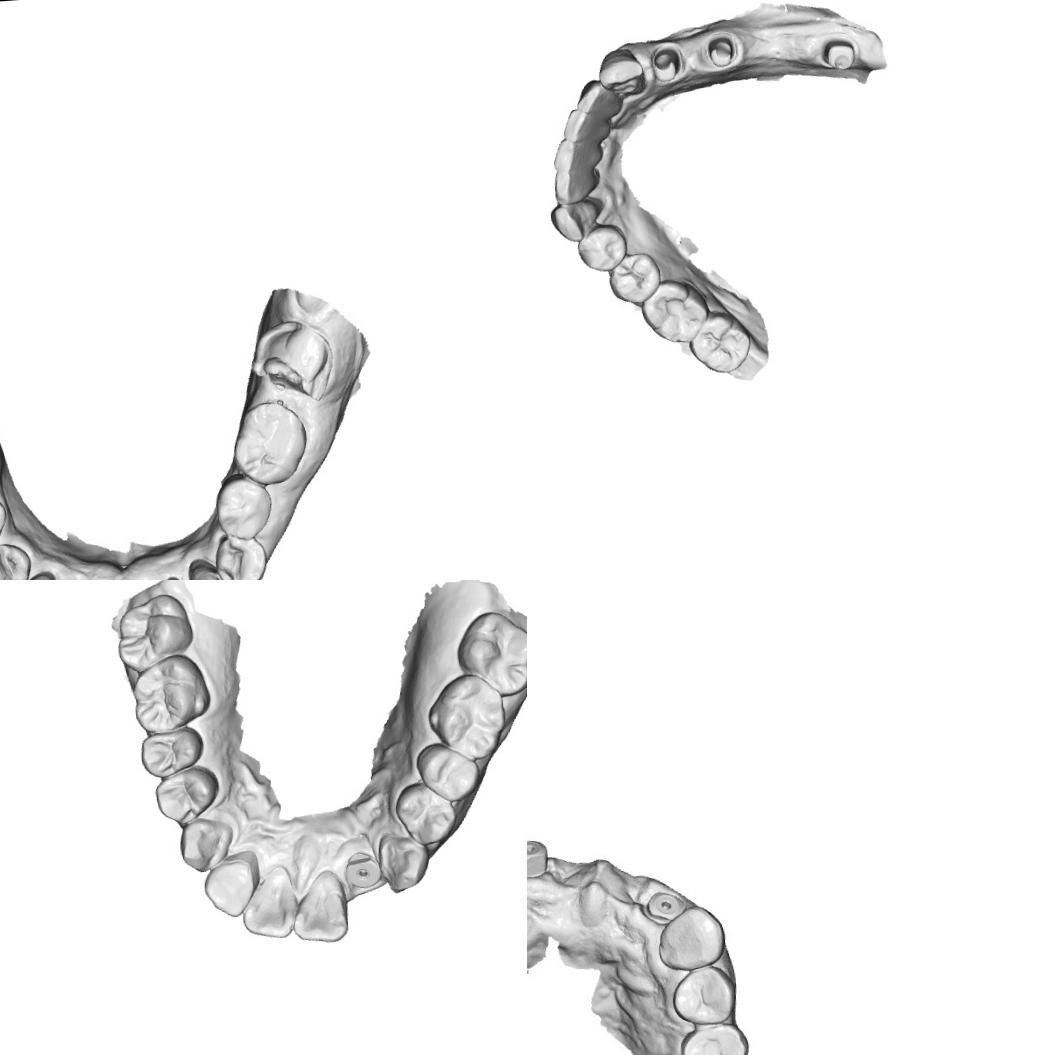abutment: (820, 36, 858, 74), (649, 44, 682, 84), (706, 33, 738, 68)
canine: (651, 905, 725, 973), (376, 830, 432, 895), (177, 816, 236, 875), (596, 46, 646, 98), (548, 198, 601, 244), (186, 560, 234, 580)
implant: (638, 884, 681, 926), (342, 848, 382, 890), (527, 832, 548, 875)
incisor: (288, 868, 351, 944), (238, 864, 296, 940), (200, 856, 257, 920), (549, 134, 604, 174), (572, 76, 621, 118), (550, 165, 600, 206), (559, 104, 610, 142)
molar: (424, 672, 509, 764), (229, 398, 311, 488), (128, 650, 214, 734), (112, 590, 194, 674), (453, 607, 527, 699), (638, 275, 710, 348), (686, 308, 754, 376)
premolar: (392, 778, 459, 848), (210, 472, 276, 542), (151, 764, 222, 828), (414, 740, 482, 804), (138, 724, 206, 780), (670, 966, 734, 1024), (606, 250, 664, 308), (574, 220, 630, 274), (210, 531, 269, 580), (680, 1021, 745, 1055), (0, 540, 31, 580)
